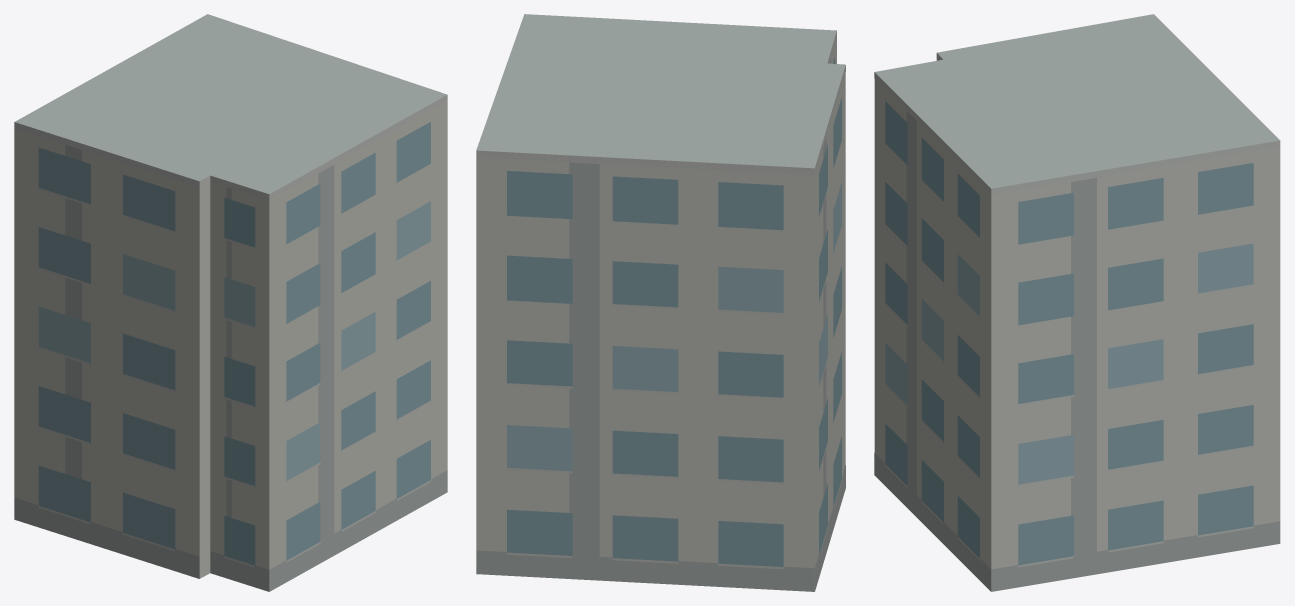
File: survey-upis-32587674.glb
The picture shows the model from 3 angles, left to right: view 1: azimuth 30°, elevation 25°; view 2: azimuth 150°, elevation 25°; view 3: azimuth 270°, elevation 25°; orthographic projection. The views are drawn at different scales.
Parts seen in each view (by area): view 1: survey-upis-32587674.tmp; view 2: survey-upis-32587674.tmp; view 3: survey-upis-32587674.tmp.
Boxes of the visible parts, x1,y1,x2,y2 form: survey-upis-32587674.tmp: [14, 14, 447, 591]; survey-upis-32587674.tmp: [476, 14, 845, 591]; survey-upis-32587674.tmp: [874, 14, 1280, 591].
Bounding box in the file's own units: 13.85 × 14.9 × 13.6.
